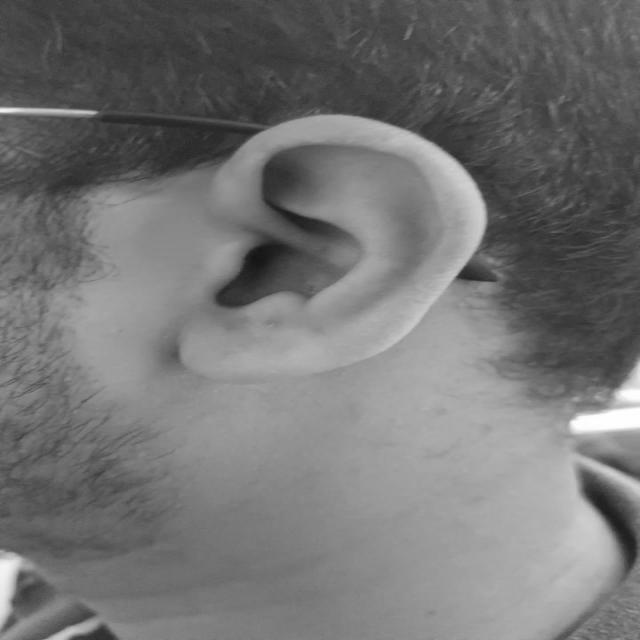ear: (179, 115, 484, 383)
